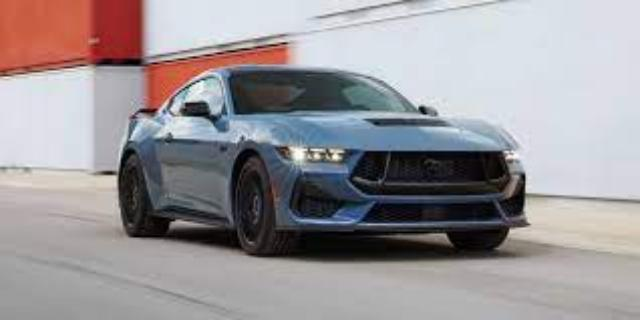ford-mustang: (116, 64, 532, 256)
